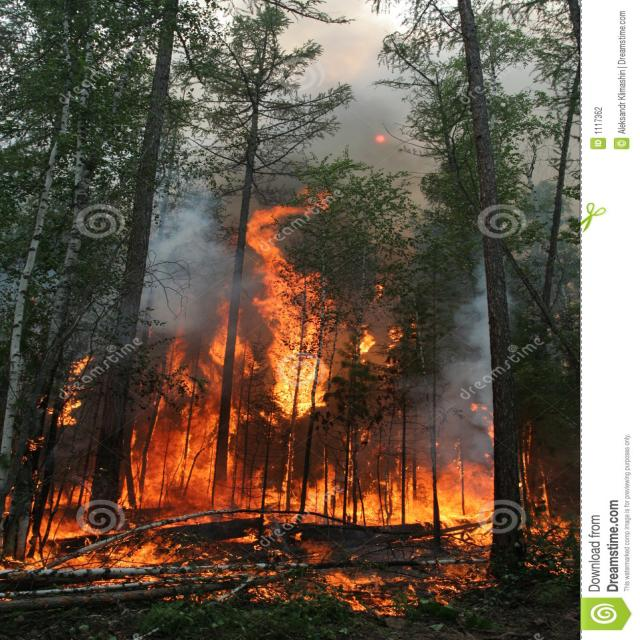Fire: (224, 206, 404, 420), (112, 360, 270, 513), (233, 465, 525, 529), (32, 528, 206, 596), (216, 549, 350, 623), (313, 566, 443, 634), (28, 340, 94, 465), (514, 506, 626, 572), (353, 310, 421, 362)
Smoke: (306, 89, 506, 253)
